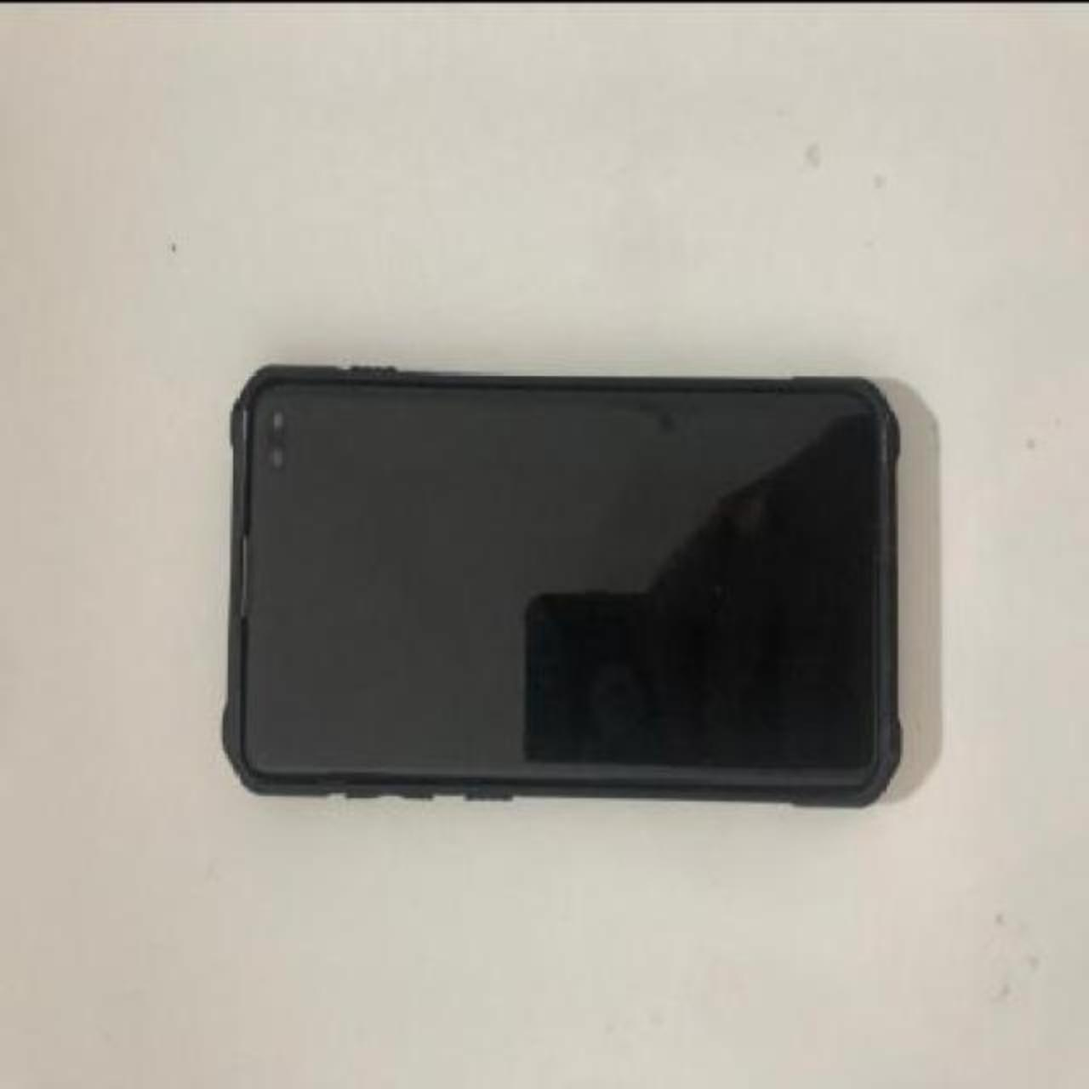phone: (219, 356, 904, 807)
